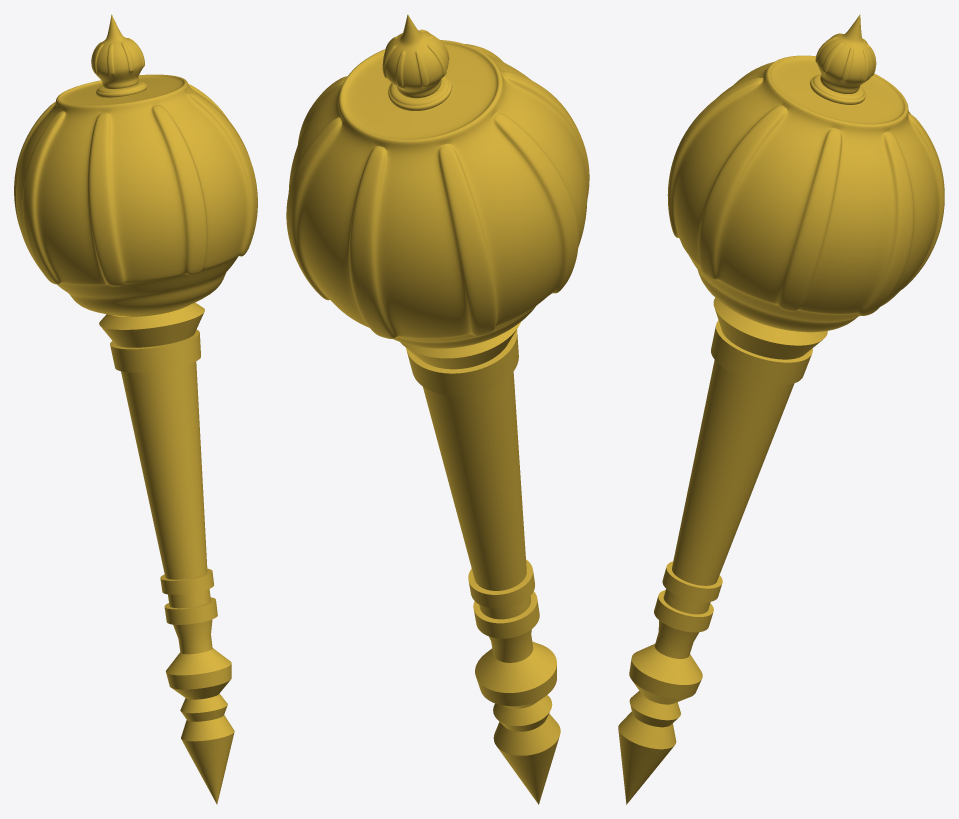
File: hanuman_gada@divinemantra (3).glb
3 renders of one model, left to right at view 1: azimuth 30°, elevation 25°; view 2: azimuth 150°, elevation 25°; view 3: azimuth 270°, elevation 25°, orthographic. The views are drawn at different scales.
Visible parts, largest first — view 1: Sphere.001_1, Sphere_0, Sphere.002_2; view 2: Sphere.001_1, Sphere_0, Sphere.002_2; view 3: Sphere.001_1, Sphere_0, Sphere.002_2.
Part boxes in pixels (<box>): Sphere.001_1: <box>14,74,257,316</box>; Sphere_0: <box>99,302,234,804</box>; Sphere.002_2: <box>91,14,144,88</box>; Sphere.001_1: <box>286,40,589,348</box>; Sphere_0: <box>400,322,560,804</box>; Sphere.002_2: <box>382,14,449,98</box>; Sphere.001_1: <box>667,55,944,332</box>; Sphere_0: <box>618,297,827,804</box>; Sphere.002_2: <box>815,14,876,93</box>.
Size of the model in its own units: 2.48 by 7.8 by 2.92.
